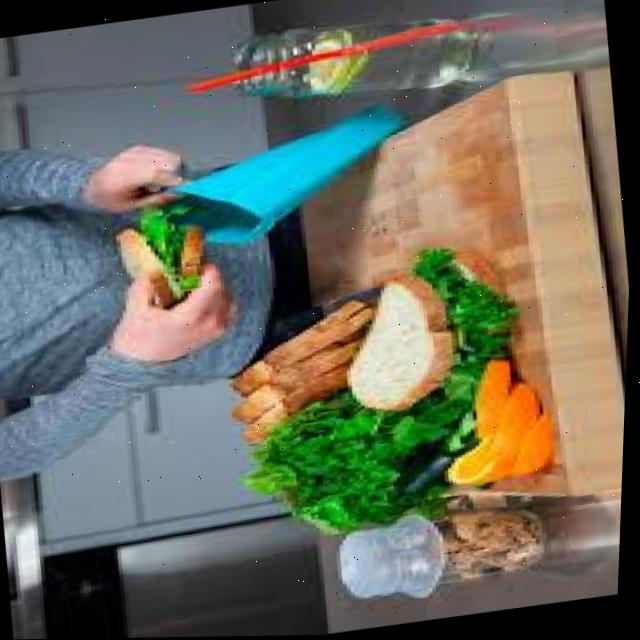Wet: (184, 245, 621, 632), (304, 261, 492, 436), (99, 150, 235, 327)
